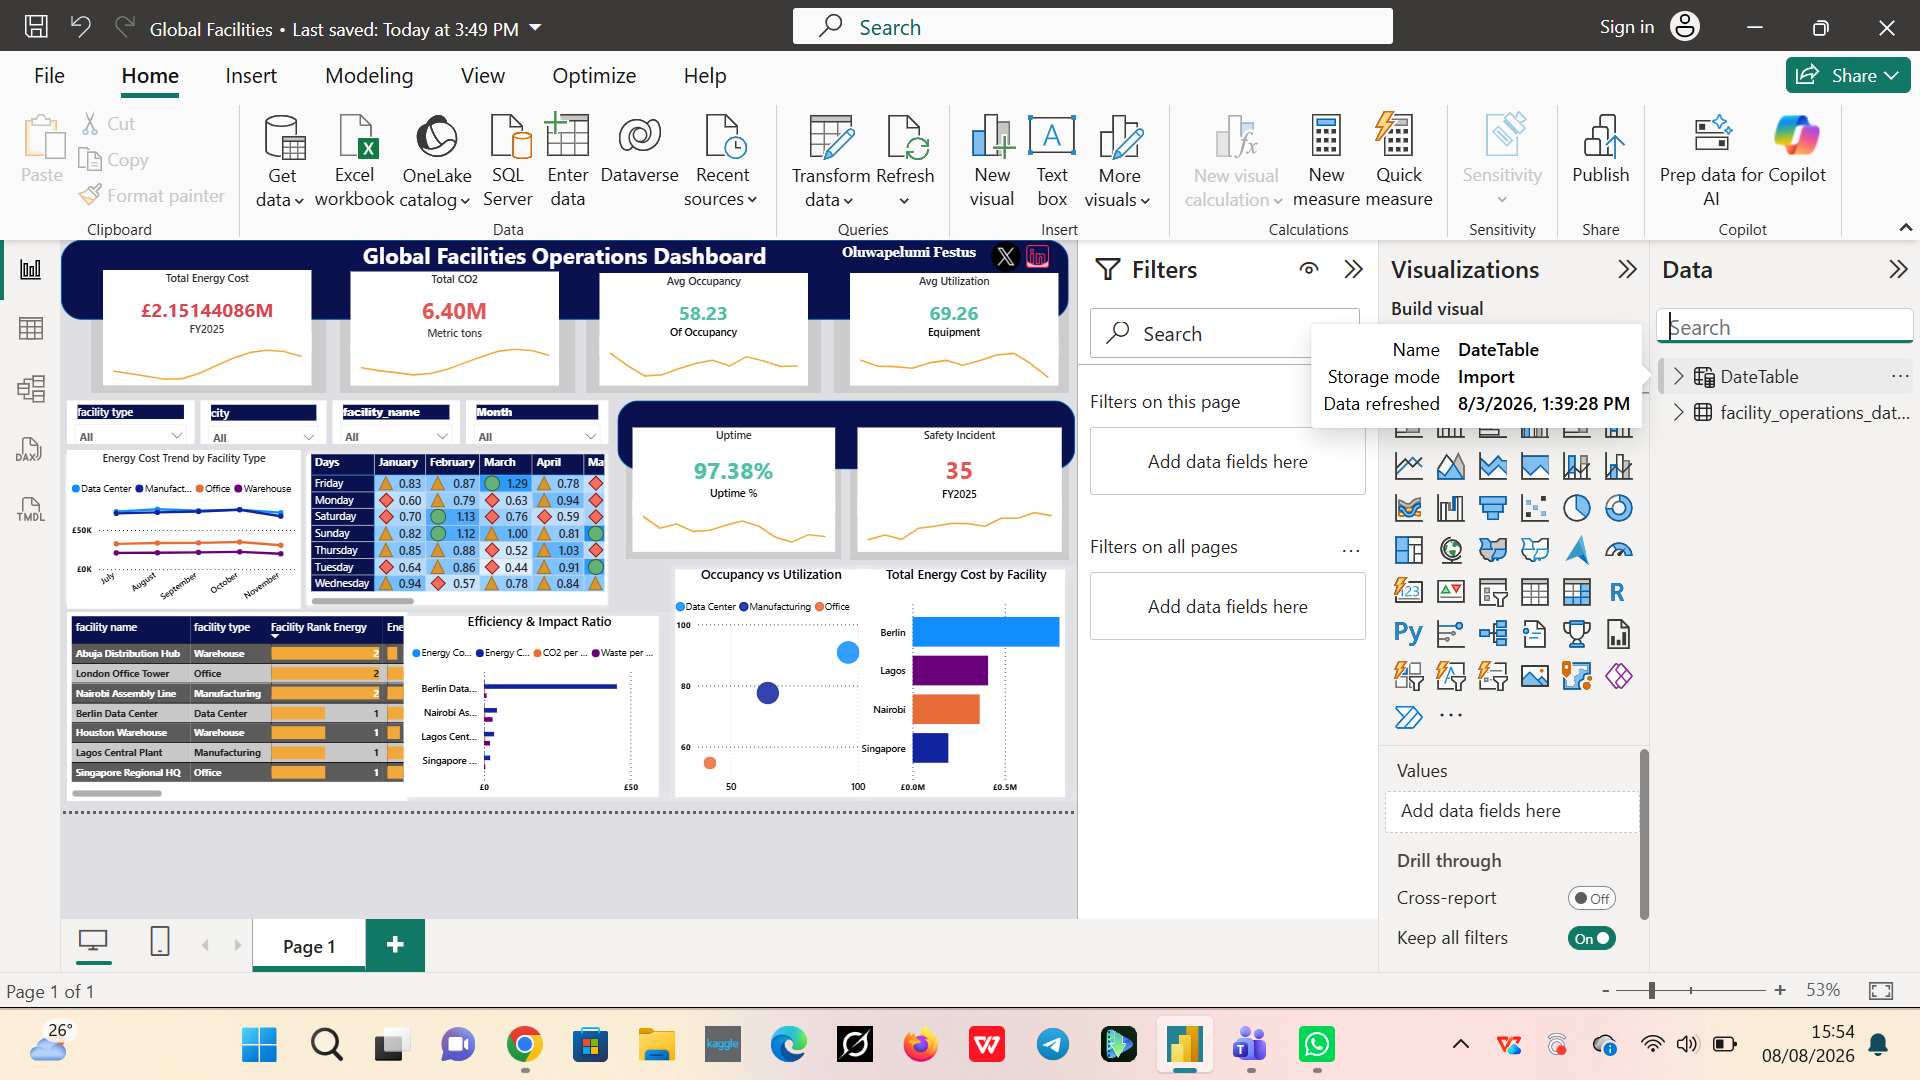

This screenshot's page, from the dashboard's own definition file:
{"tool":"powerbi","page":{"name":"Page 1","canvas":[1280,720],"ordinal":0},"visuals":[{"type":"shape","box":[769.1,410.1,500.8,296.7],"z":0},{"type":"shape","box":[7.6,468.7,750.2,238.1],"z":1000},{"type":"shape","box":[37.8,51,296.7,141.7],"z":2000},{"type":"slicer","fields":{"Values":["facility_operations_dataset.facility_type"]},"box":[7.6,202.2,160.6,54.8],"z":3000},{"type":"slicer","fields":{"Values":["facility_operations_dataset.city"]},"box":[175.7,202.2,158.7,54.8],"z":4000},{"type":"slicer","fields":{"Values":["DateTable.Date.Variation.Date Hierarchy.Month"]},"box":[510.2,202.2,179.5,54.8],"z":5000},{"type":"shape","box":[994,240,275.9,162.5],"z":6000},{"type":"shape","box":[304.3,264.6,389.3,200.3],"z":7000},{"type":"shape","box":[1.9,264.6,294.8,200.3],"z":8000},{"type":"shape","box":[712.4,236.2,270.2,166.3],"z":9000},{"type":"shape","box":[701.1,202.2,576.4,86.9],"z":10000},{"type":"shape","box":[351.5,51,296.7,141.7],"z":11000},{"type":"shape","box":[973.2,41.6,296.7,151.2],"z":12000},{"type":"shape","box":[661.4,51,296.7,141.7],"z":13000},{"type":"shape","title":"Global Facilities Operations Dashboard","box":[0,0,1269.5,100.4],"z":14000},{"type":"cardVisual","title":"Total Energy Cost","fields":{"Data":["facility_operations_dataset.Total Energy Cost"]},"box":[52.9,37.8,262.7,103.9],"z":15000},{"type":"cardVisual","title":"Avg Occupancy ","fields":{"Data":["facility_operations_dataset.Avg Occupancy %"]},"box":[678.4,41.6,262.7,103.9],"z":16000},{"type":"cardVisual","title":"Avg Utilization ","fields":{"Data":["facility_operations_dataset.Avg Equipment Utilization %"]},"box":[994,41.6,262.7,103.9],"z":17000},{"type":"cardVisual","title":"Uptime ","fields":{"Data":["facility_operations_dataset.Uptime %"]},"box":[720,236.2,255.1,111.5],"z":18000},{"type":"cardVisual","title":"Safety Incident ","fields":{"Data":["facility_operations_dataset.Total Safety Incidents"]},"box":[1003.5,236.2,257,111.5],"z":19000},{"type":"lineChart","title":"Energy Cost Trend by Facility Type","fields":{"Category":["DateTable.Date.Variation.Date Hierarchy.Month"],"Y":["facility_operations_dataset.Total Energy Cost"],"Series":["facility_operations_dataset.facility_type"]},"box":[7.6,264.6,294.8,200.3],"z":20000},{"type":"barChart","title":"Total Energy Cost by Facility","fields":{"Category":["facility_operations_dataset.city"],"Y":["facility_operations_dataset.Total Energy Cost"]},"box":[1001.6,410.1,277.8,296.7],"z":21000},{"type":"tableEx","title":"Energy Cost Trend by Facility Type","fields":{"Values":["facility_operations_dataset.facility_name","facility_operations_dataset.facility_type","facility_operations_dataset.Facility Rank by Energy Cost","facility_operations_dataset.Total Energy Cost","facility_operations_dataset.Total Maintenance Cost","facility_operations_dataset.Total Downtime (Hours)","facility_operations_dataset.Avg Occupancy %","facility_operations_dataset.Avg Equipment Utilization %","facility_operations_dataset.Total CO2 Emissions (kg)","facility_operations_dataset.Total Safety Incidents","facility_operations_dataset.Downtime Rank by Facility"]},"box":[7.6,468.7,429,238.1],"z":22000},{"type":"scatterChart","title":"Occupancy vs Utilization","fields":{"Size":["facility_operations_dataset.Total Energy Cost"],"Series":["facility_operations_dataset.facility_type"],"X":["facility_operations_dataset.Avg Occupancy %"],"Y":["facility_operations_dataset.Avg Equipment Utilization %"]},"box":[769.1,410.1,251.3,296.7],"z":23000},{"type":"pivotTable","title":"Occupancy vs Utilization","fields":{"Rows":["facility_operations_dataset.day_of_week"],"Columns":["DateTable.Date.Variation.Date Hierarchy.Month"],"Values":["facility_operations_dataset.Avg Downtime per Day"]},"box":[309.9,264.6,379.8,200.3],"z":24000},{"type":"clusteredBarChart","title":"Efficiency & Impact Ratio","fields":{"Category":["facility_operations_dataset.facility_name"],"Y":["facility_operations_dataset.Energy Cost per sqm","facility_operations_dataset.Energy Cost per Occupant","facility_operations_dataset.CO2 per kWh","facility_operations_dataset.Waste per Occupant"]},"box":[436.5,468.7,332.6,238.1],"z":25000},{"type":"slicer","fields":{"Values":["facility_operations_dataset.facility_name"]},"box":[342,202.2,160.6,54.8],"z":26000},{"type":"lineChart","fields":{"Category":["DateTable.Date.Variation.Date Hierarchy.Month"],"Y":["DateTable.Utilization 3-Month Avg"]},"box":[994,122.8,262.7,60.5],"z":27000},{"type":"lineChart","fields":{"Category":["DateTable.Date.Variation.Date Hierarchy.Month"],"Y":["DateTable.Occupancy 3-Month Avg"]},"box":[678.4,122.8,262.7,60.5],"z":28000},{"type":"cardVisual","title":"Total CO2","fields":{"Data":["facility_operations_dataset.Total CO2 Emissions (kg)"]},"box":[364.7,39.7,262.7,102],"z":29000},{"type":"lineChart","fields":{"Category":["DateTable.Date.Variation.Date Hierarchy.Month"],"Y":["DateTable.Energy Cost 3-Month Avg"]},"box":[52.9,117.2,262.7,66.1],"z":30000},{"type":"lineChart","fields":{"Category":["DateTable.Date.Variation.Date Hierarchy.Month"],"Y":["DateTable.CO2 3-Month Avg"]},"box":[364.7,122.8,262.7,60.5],"z":31000},{"type":"image","box":[1167.9,1.9,45.4,37.8],"z":32000},{"type":"image","box":[1203.8,0,52.9,41.6],"z":33000},{"type":"lineChart","fields":{"Category":["DateTable.Date.Variation.Date Hierarchy.Month"],"Y":["DateTable.Safety Incident 3-Month Avg"]},"box":[1003.5,326.9,257,66.1],"z":34000},{"type":"lineChart","fields":{"Category":["DateTable.Date.Variation.Date Hierarchy.Month"],"Y":["DateTable.Uptime 3-Month Avg"]},"box":[720,326.9,255.1,66.1],"z":35000},{"type":"textbox","box":[895.8,1.9,272.1,37.8],"z":36000}]}

Visuals, with their boxes on the page's 1280x720 design canvas (x1, y1, x2, y2). These are canvas units, not pixel positions in the 1920x1080 screenshot, which may show the page scaled, cropped or inside an application window:
shape: 769,410,1270,707
shape: 8,469,758,707
shape: 38,51,334,193
slicer - facility_operations_dataset.facility_type: 8,202,168,257
slicer - facility_operations_dataset.city: 176,202,334,257
slicer - DateTable.Date.Variation.Date Hierarchy.Month: 510,202,690,257
shape: 994,240,1270,402
shape: 304,265,694,465
shape: 2,265,297,465
shape: 712,236,983,402
shape: 701,202,1278,289
shape: 352,51,648,193
shape: 973,42,1270,193
shape: 661,51,958,193
"Global Facilities Operations Dashboard" shape: 0,0,1270,100
"Total Energy Cost" cardVisual: 53,38,316,142
"Avg Occupancy " cardVisual: 678,42,941,146
"Avg Utilization " cardVisual: 994,42,1257,146
"Uptime " cardVisual: 720,236,975,348
"Safety Incident " cardVisual: 1004,236,1260,348
"Energy Cost Trend by Facility Type" lineChart: 8,265,302,465
"Total Energy Cost by Facility" barChart: 1002,410,1279,707
"Energy Cost Trend by Facility Type" tableEx: 8,469,437,707
"Occupancy vs Utilization" scatterChart: 769,410,1020,707
"Occupancy vs Utilization" pivotTable: 310,265,690,465
"Efficiency & Impact Ratio" clusteredBarChart: 436,469,769,707
slicer - facility_operations_dataset.facility_name: 342,202,503,257
lineChart - DateTable.Date.Variation.Date Hierarchy.Month x DateTable.Utilization 3-Month Avg: 994,123,1257,183
lineChart - DateTable.Date.Variation.Date Hierarchy.Month x DateTable.Occupancy 3-Month Avg: 678,123,941,183
"Total CO2" cardVisual: 365,40,627,142
lineChart - DateTable.Date.Variation.Date Hierarchy.Month x DateTable.Energy Cost 3-Month Avg: 53,117,316,183
lineChart - DateTable.Date.Variation.Date Hierarchy.Month x DateTable.CO2 3-Month Avg: 365,123,627,183
image: 1168,2,1213,40
image: 1204,0,1257,42
lineChart - DateTable.Date.Variation.Date Hierarchy.Month x DateTable.Safety Incident 3-Month Avg: 1004,327,1260,393
lineChart - DateTable.Date.Variation.Date Hierarchy.Month x DateTable.Uptime 3-Month Avg: 720,327,975,393
textbox: 896,2,1168,40
